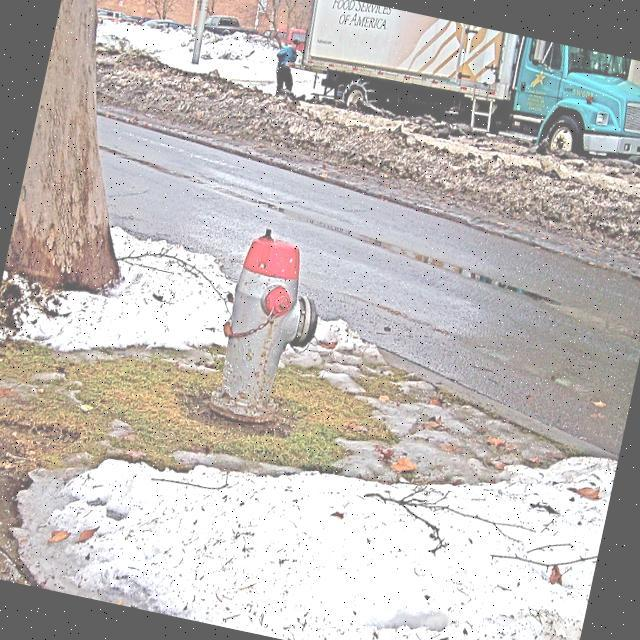fire_hydrant: (205, 223, 332, 429)
